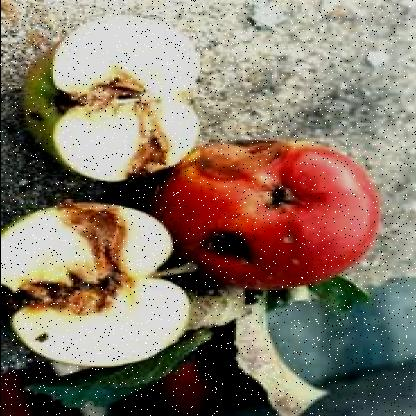damaged_apple: (166, 134, 378, 288), (3, 205, 186, 363), (30, 17, 194, 179)
